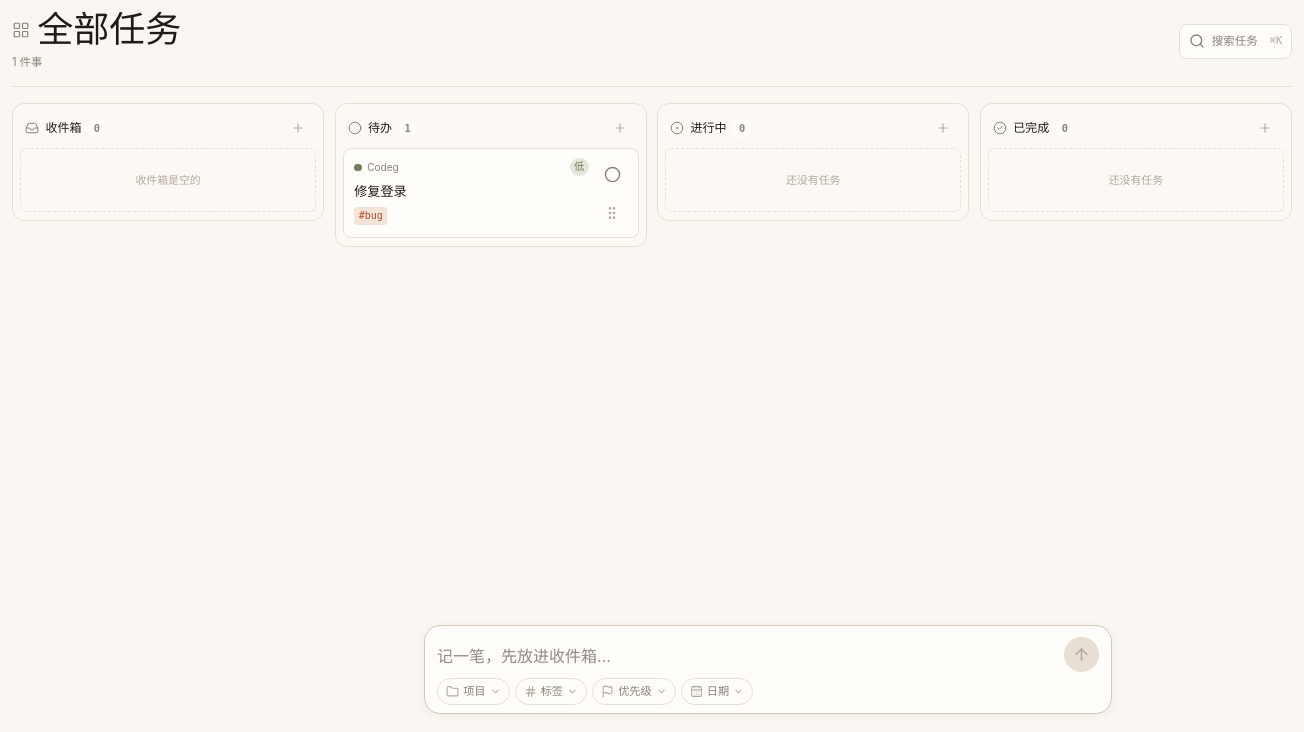
Test: keeps only one inline task composer open across columns
Click the button named "在待办新建任务".
click(620, 128)  # box x1=607 y1=115 x2=634 y2=142
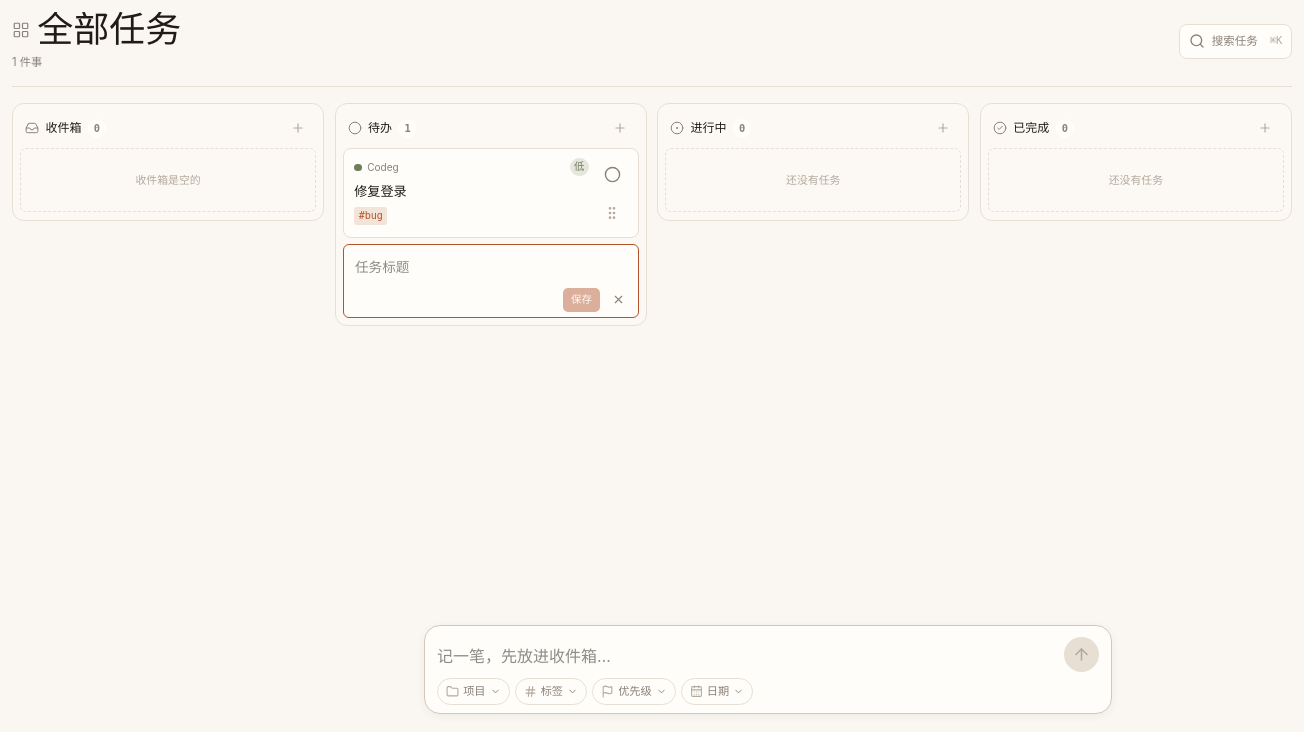
Click the button named "在收件箱新建任务".
click(298, 128)  # box x1=284 y1=115 x2=311 y2=142
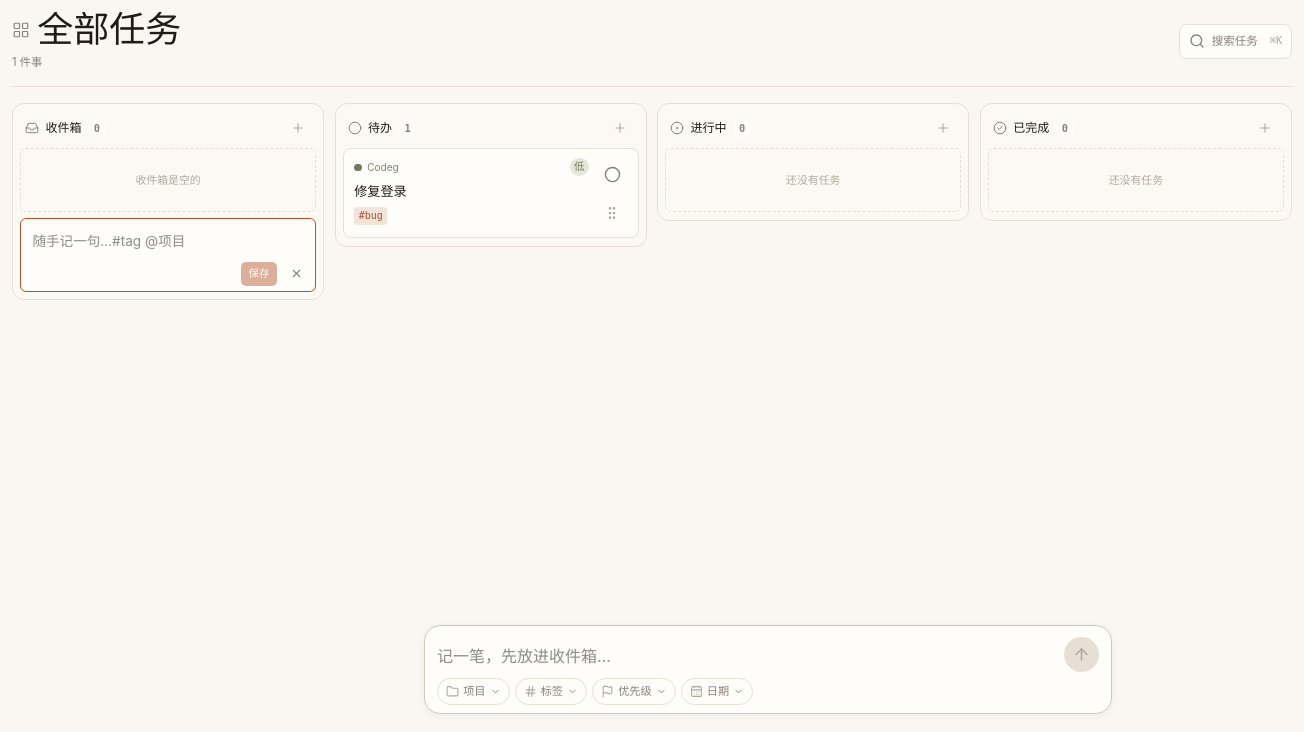
Result: the number of fields labelled "随手记一句…#tag @项目" is 1 at x1=26 y1=224 x2=310 y2=257
Result: the field labelled "新建待办任务" is gone
